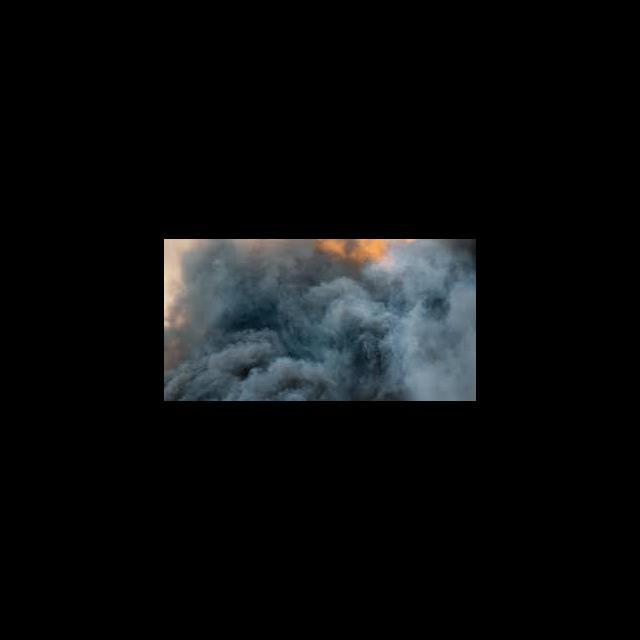Smoke: (171, 244, 475, 400)
